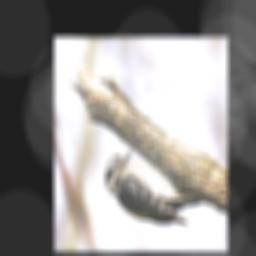Woodpecker: (98, 148, 205, 231)
